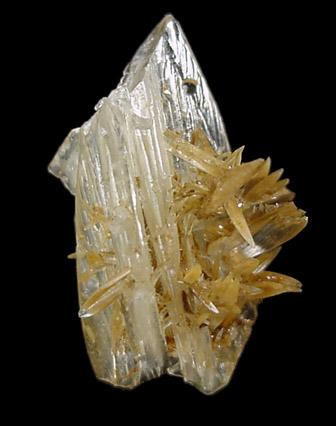calcite: (48, 15, 258, 394)
